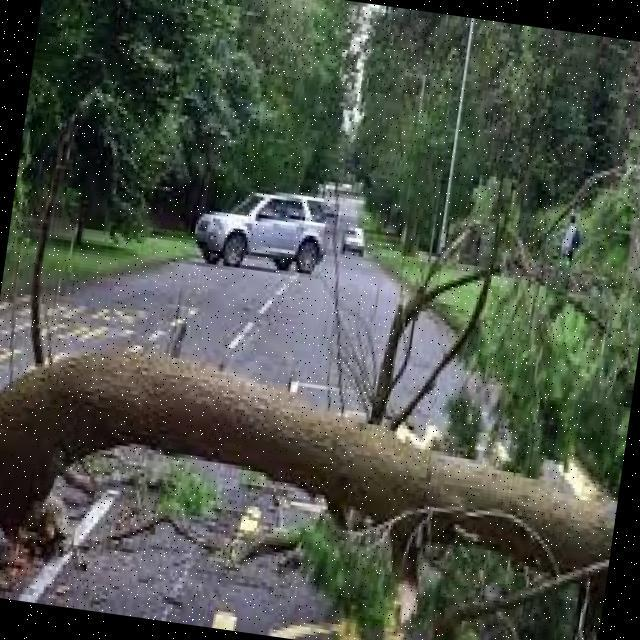fallen_object: (0, 281, 636, 640)
